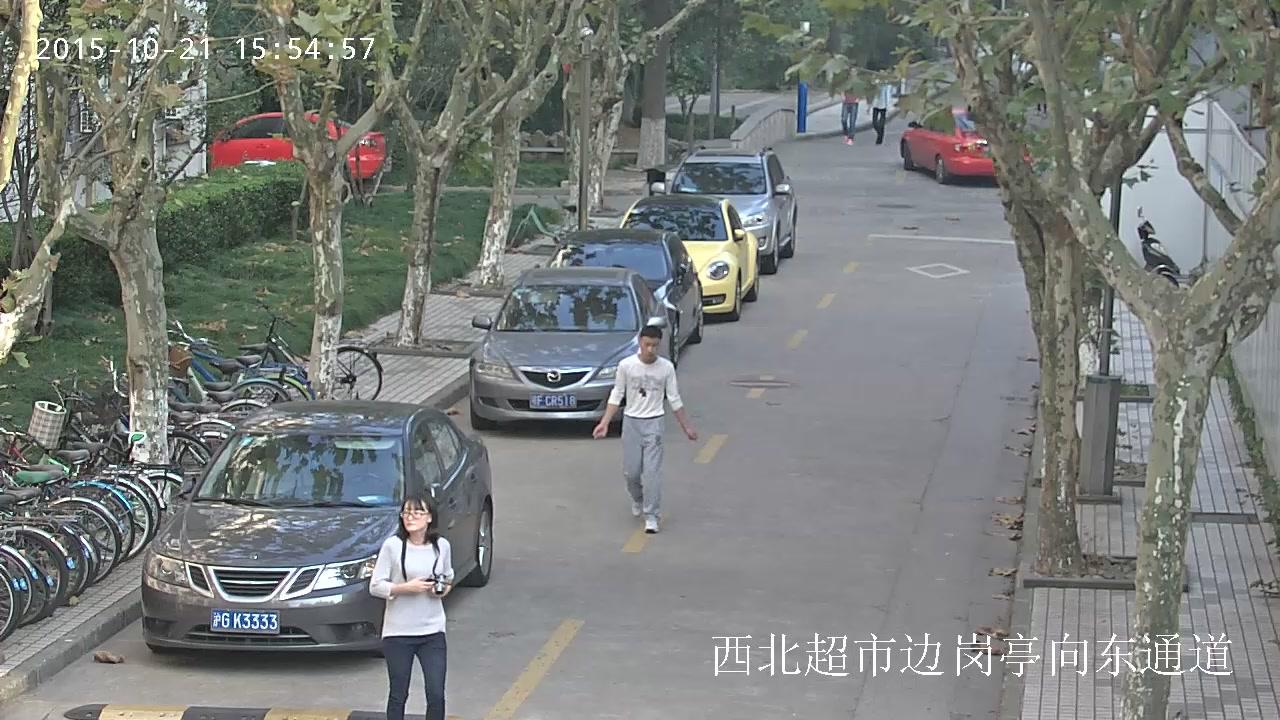person: (592, 325, 697, 534), (368, 490, 455, 720), (839, 67, 861, 146), (871, 69, 893, 144)
